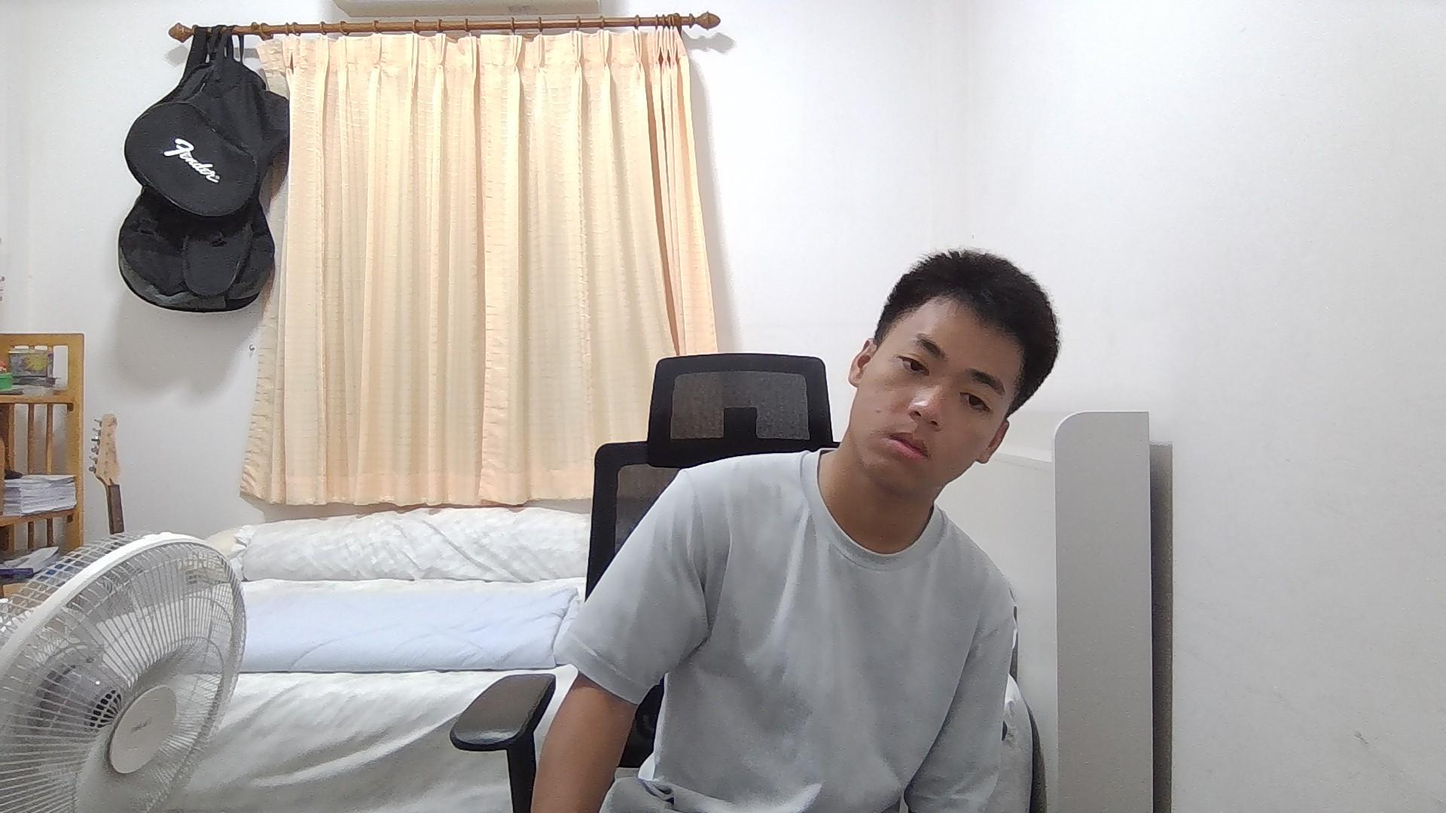BadPosture: (532, 252, 1057, 812)
